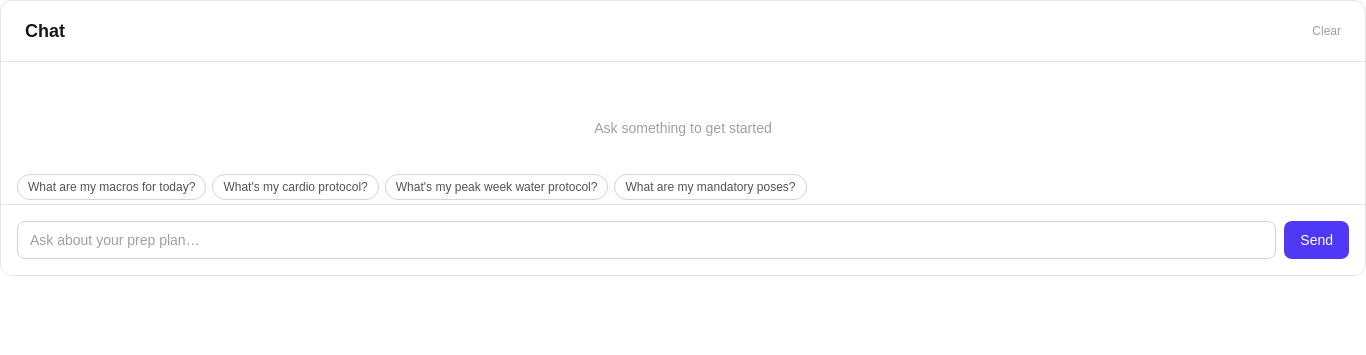
Scenario: Task 9 (extended): Source citations › should display unique source filenames below the assistant reply
In the field: (647, 240) [17,221,1276,259], type "Carbs?"
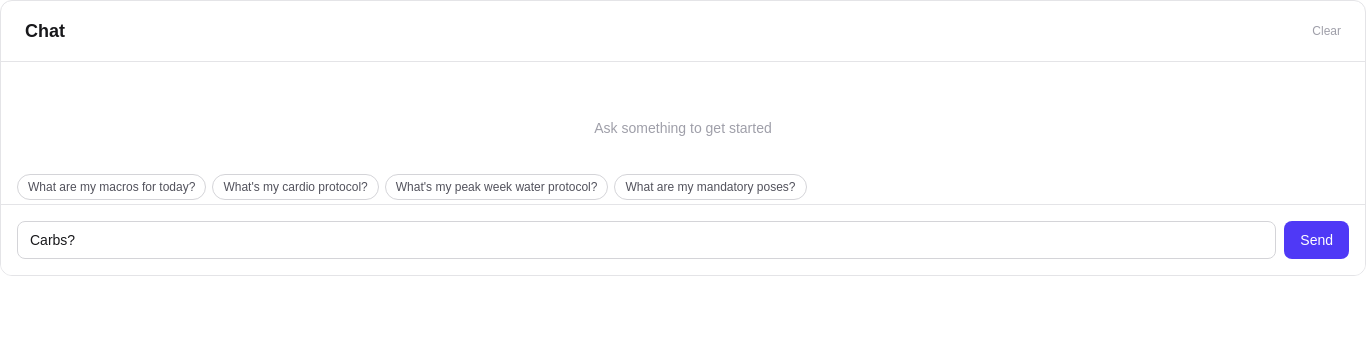
Click the button "Send": (1317, 240) [1284,221,1349,259]
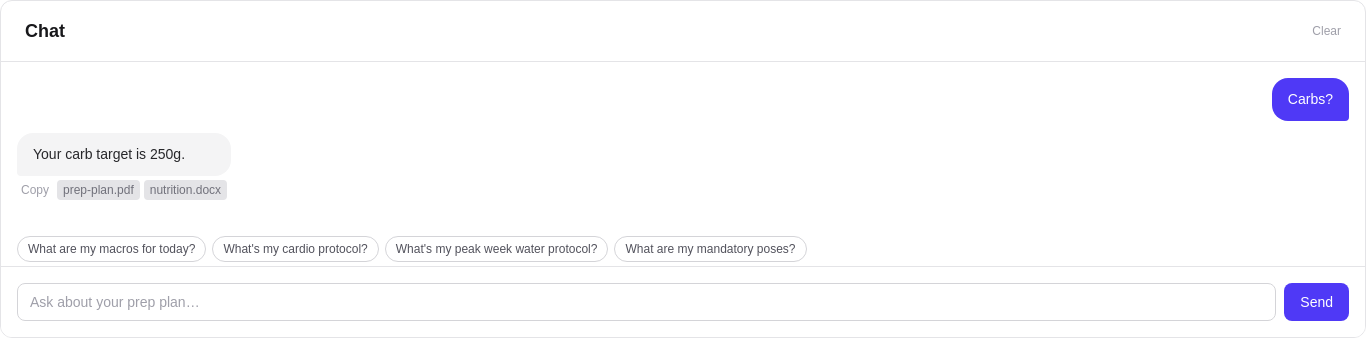
Expected: the text "prep-plan.pdf" is shown, [57,180,140,200]
Expected: the text "nutrition.docx" is shown, [144,180,227,200]
